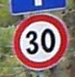limite 30: (10, 13, 67, 70)
